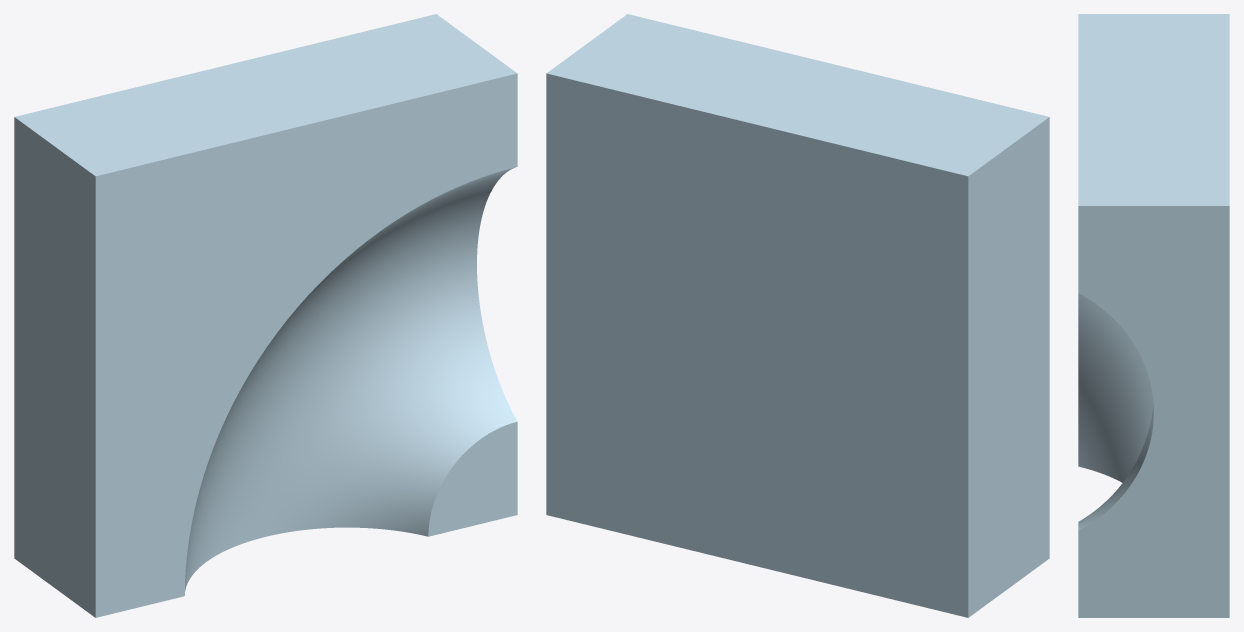
Rendered from elbow.gltf.
3 views of the same model, side by side, from view 1: azimuth 30°, elevation 25°; view 2: azimuth 150°, elevation 25°; view 3: azimuth 270°, elevation 25° (orthographic). The views are drawn at different scales.
Parts seen in each view (by area): view 1: Part 1; view 2: Part 1; view 3: Part 1.
Boxes of the visible parts, <box> form: Part 1: <box>14,14,517,617</box>; Part 1: <box>546,14,1049,617</box>; Part 1: <box>1078,14,1229,617</box>.
Bounding box in the file's own units: 0.0762 × 0.0762 × 0.0254.
